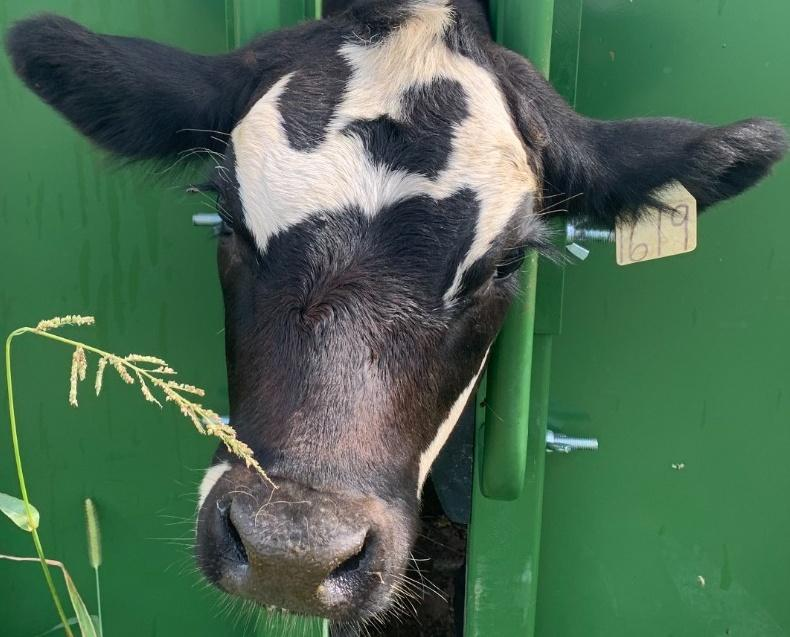muzzles: (185, 463, 415, 632)
